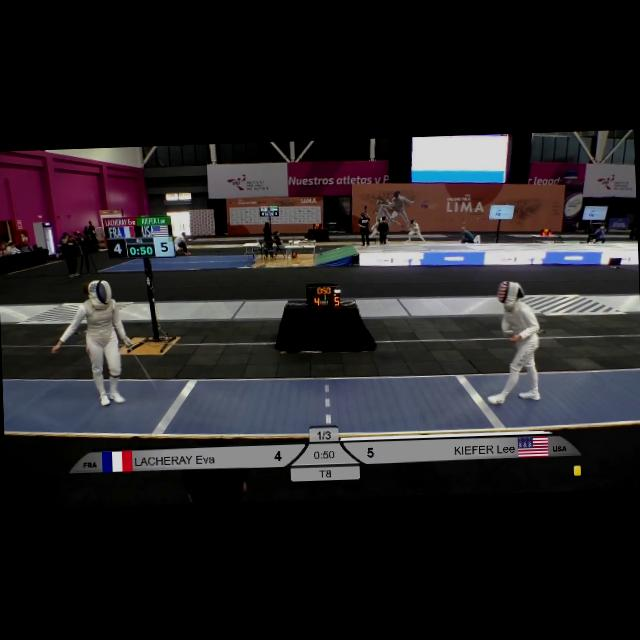blade: (125, 340, 164, 402)
